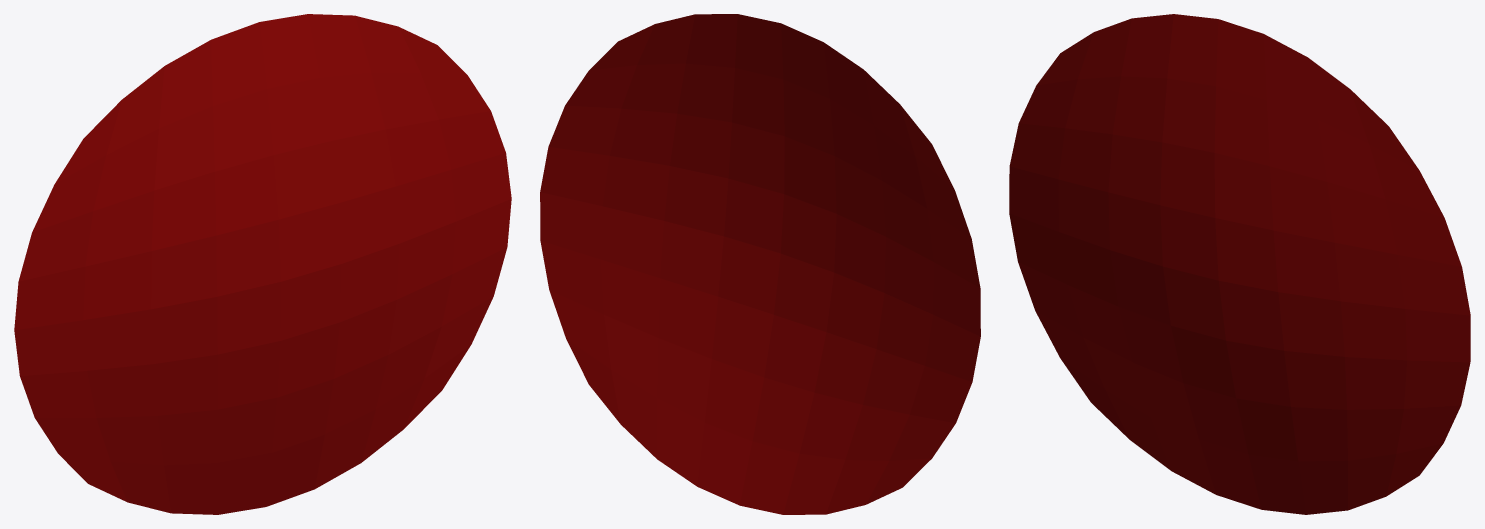
The picture shows the model from 3 angles, left to right: view 1: azimuth 30°, elevation 25°; view 2: azimuth 150°, elevation 25°; view 3: azimuth 330°, elevation 25°; orthographic projection. The views are drawn at different scales.
Visible parts, largest first — view 1: Plane.224; view 2: Plane.224; view 3: Plane.224.
Boxes of the visible parts, x1,y1,x2,y2 form: Plane.224: (14, 14, 511, 514); Plane.224: (540, 14, 980, 514); Plane.224: (1009, 14, 1470, 514).
Bounding box in the file's own units: 0.00507 × 0.00506 × 0.000591.
